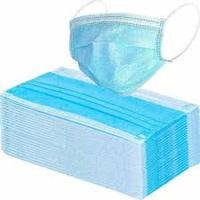flu mask: (70, 17, 172, 95)
